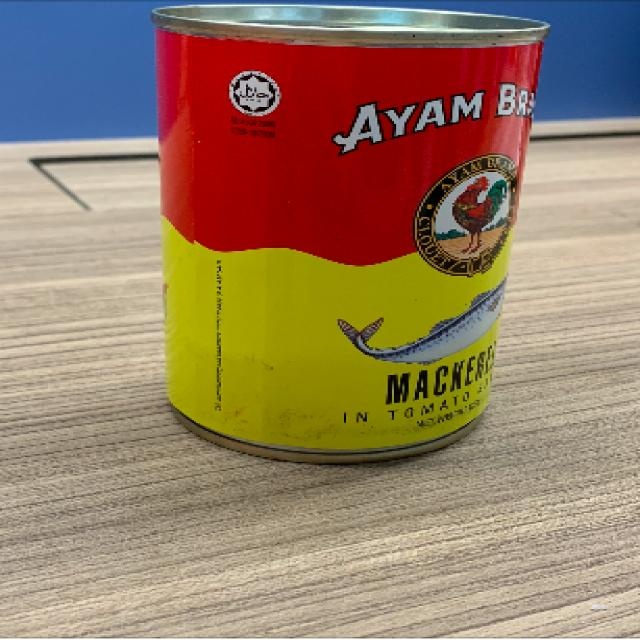object_name: (156, 8, 550, 463)
